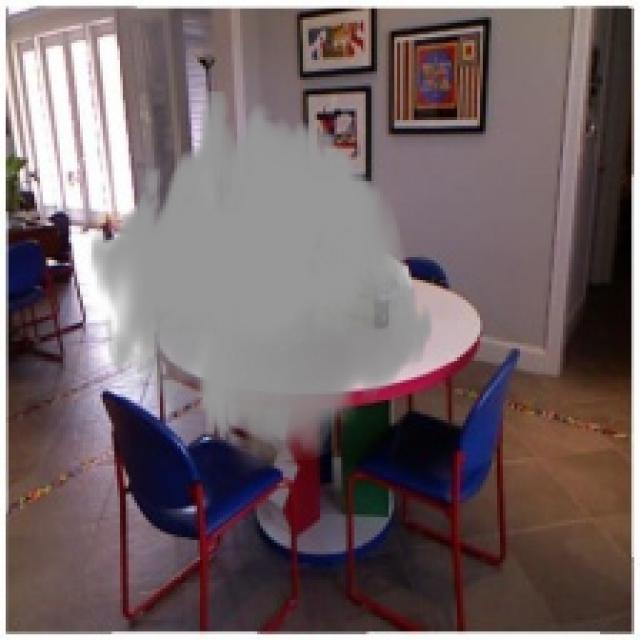smoke: (89, 91, 434, 460)
